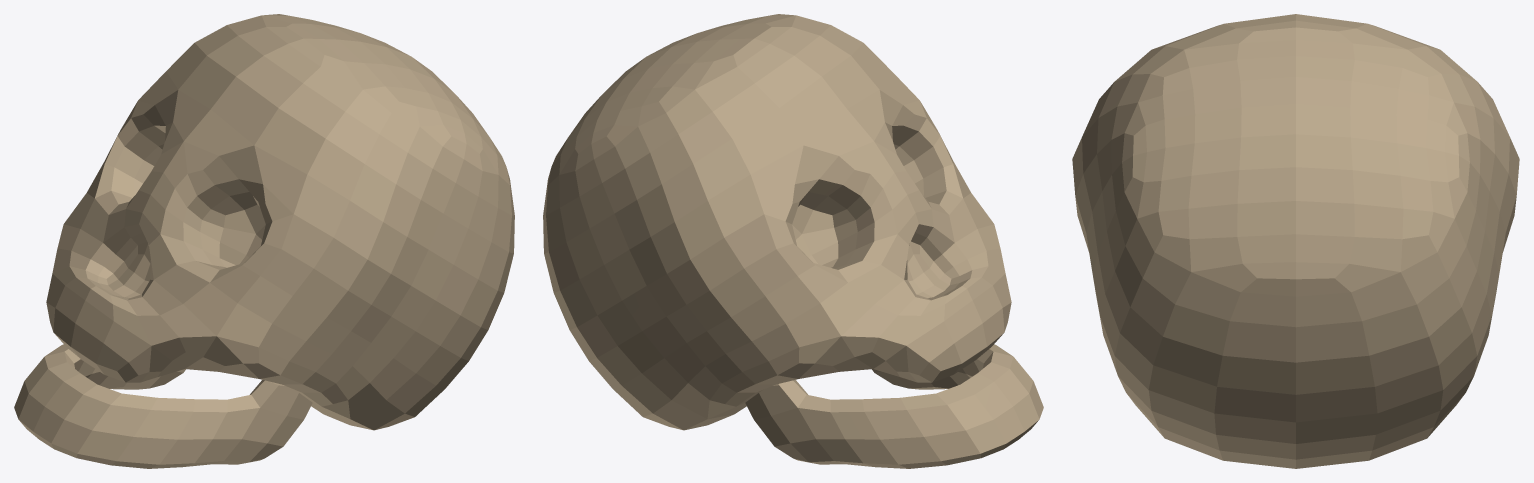
File: crypt_skull_2_lev3.glb
The picture shows the model from 3 angles, left to right: view 1: azimuth 30°, elevation 25°; view 2: azimuth 150°, elevation 25°; view 3: azimuth 270°, elevation 25°; orthographic projection. The views are drawn at different scales.
Parts seen in each view (by area): view 1: crypt_skull_2_lev3; view 2: crypt_skull_2_lev3; view 3: crypt_skull_2_lev3.
Boxes of the visible parts, <box> form: crypt_skull_2_lev3: <box>14,14,514,468</box>; crypt_skull_2_lev3: <box>543,14,1043,468</box>; crypt_skull_2_lev3: <box>1072,14,1519,468</box>.
Bounding box in the file's own units: 0.8549 × 0.6922 × 0.6793.
